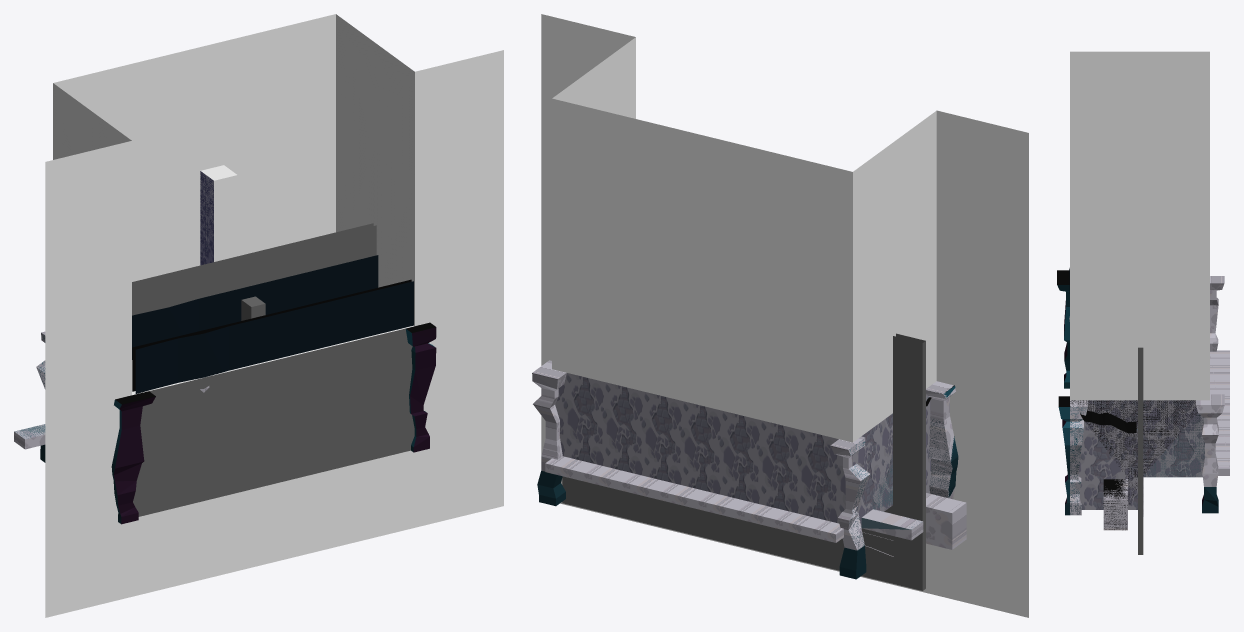
File: jin_07.dae
3 views of the same model, side by side, from view 1: azimuth 30°, elevation 25°; view 2: azimuth 150°, elevation 25°; view 3: azimuth 270°, elevation 25° (orthographic). The views are drawn at different scales.
Parts seen in each view (by area): view 1: Masuku, A_kabe_mae, a_hari, S_kabe_oku_part1, S_kabe_r_part1, a_gawa02, a_hasira, A_ten, S_ana; view 2: Masuku, S_kabe_oku_part1, S_kabe_oku_part0, a_gawa02, S_kabe_l_part1, S_hasi, S_futi_oku, S_kabe_l_part0, a_hasira, polySurface898, polySurface900, A_kabe_l; view 3: Masuku, S_kabe_r_part1, S_kabe_r_part0, A_kabe_r, S_kabe_l_part1, S_hasi, a_hasira, S_futi_oku, a_gawa02, polySurface896, a_hari.
Boxes of the visible parts, x1,y1,x2,y2 form: Masuku: (45, 14, 503, 617); A_kabe_mae: (133, 328, 414, 516); a_hari: (132, 255, 413, 393); S_kabe_oku_part1: (132, 120, 335, 281); S_kabe_r_part1: (336, 121, 414, 325); a_gawa02: (132, 223, 376, 315); a_hasira: (37, 322, 436, 524); A_ten: (132, 165, 414, 395); S_ana: (200, 171, 213, 265); Masuku: (541, 14, 1028, 617); S_kabe_oku_part1: (552, 212, 852, 442); S_kabe_oku_part0: (555, 373, 852, 523); a_gawa02: (562, 333, 925, 590); S_kabe_l_part1: (853, 224, 936, 441); S_hasi: (532, 360, 955, 550); S_futi_oku: (545, 456, 843, 542); S_kabe_l_part0: (853, 394, 930, 527); a_hasira: (537, 385, 958, 579); polySurface898: (926, 493, 966, 549); polySurface900: (862, 509, 923, 540); A_kabe_l: (861, 397, 928, 529); Masuku: (1070, 51, 1209, 268); S_kabe_r_part1: (1070, 268, 1209, 400); S_kabe_r_part0: (1078, 400, 1204, 509); A_kabe_r: (1086, 400, 1204, 530); S_kabe_l_part1: (1070, 146, 1209, 174); S_hasi: (1070, 276, 1224, 515); a_hasira: (1057, 270, 1218, 515); S_futi_oku: (1210, 350, 1229, 475); a_gawa02: (1138, 347, 1143, 554); polySurface896: (1103, 479, 1127, 530); a_hari: (1069, 268, 1137, 433).
Size of the model in its own units: 97.24 by 92.45 by 35.71.
